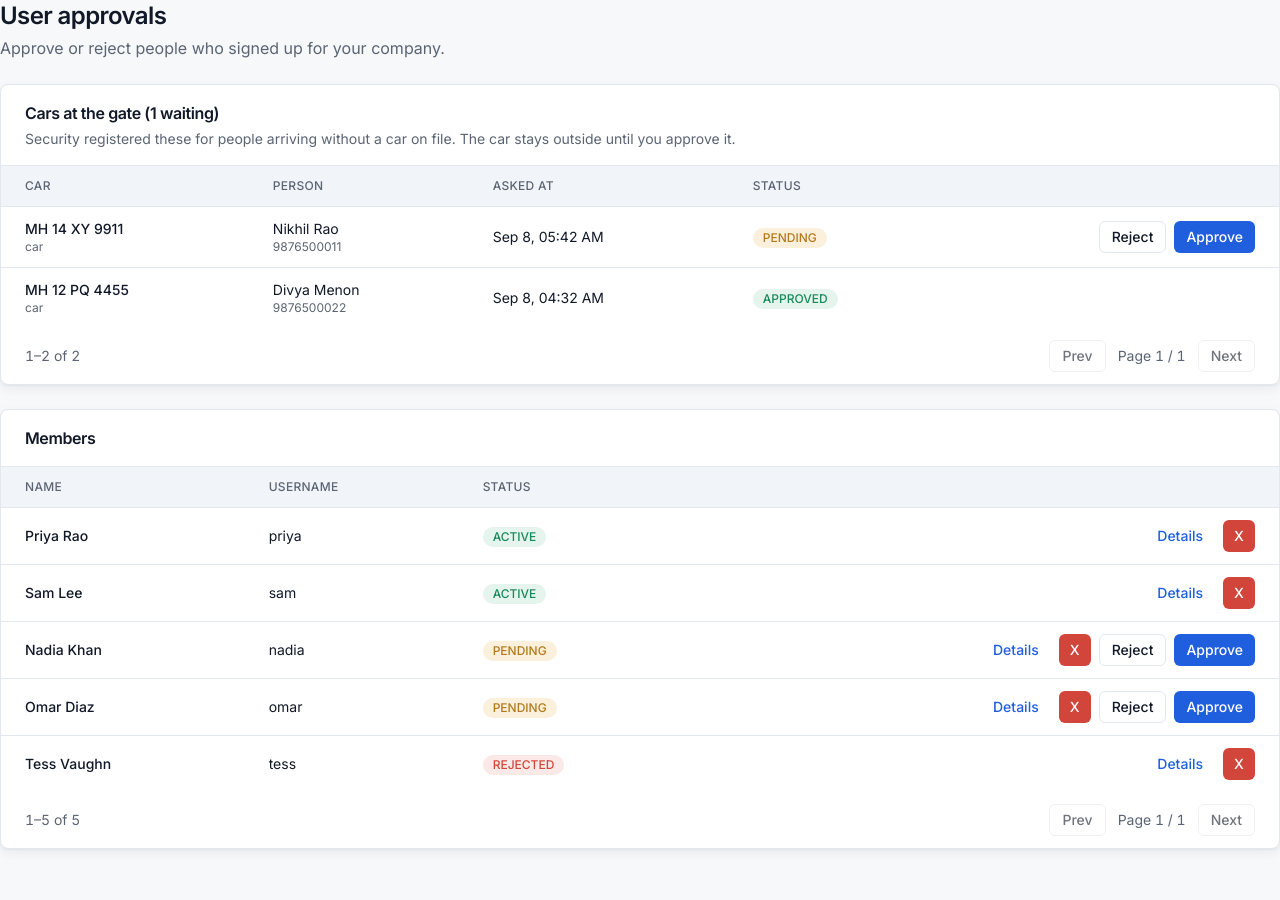
Approvals › removes a member with the X action
The image size is (1280, 900).
Expected: the button "Priya Rao" is shown, [25,526,88,546]
What coordinates should you click on to do the following:
click the button named "remove priya rao"
I would click on:
 (1239, 536)
Its box is [1223,520,1255,552].
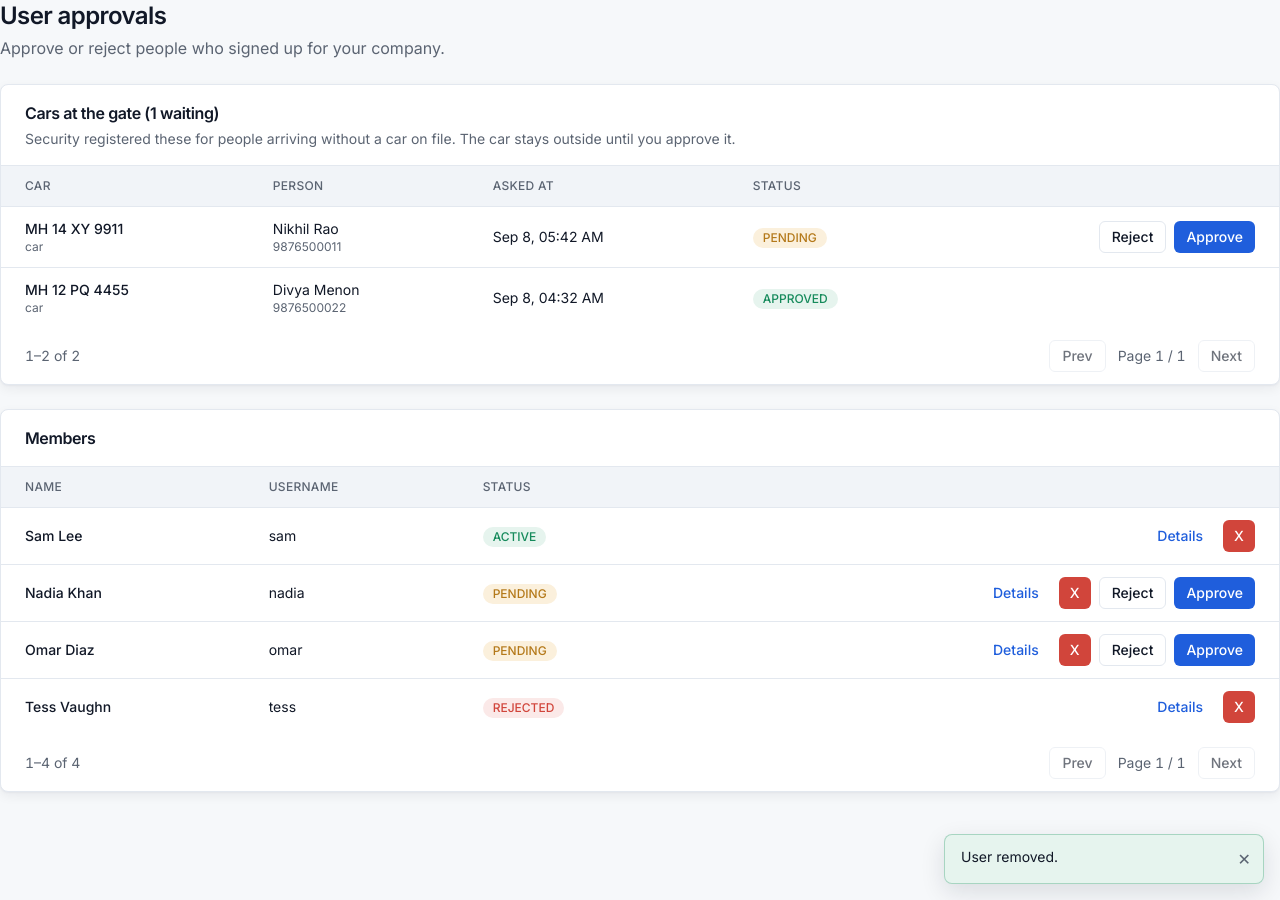
Expected: the text "User removed." is shown, [961,848,1058,865]
